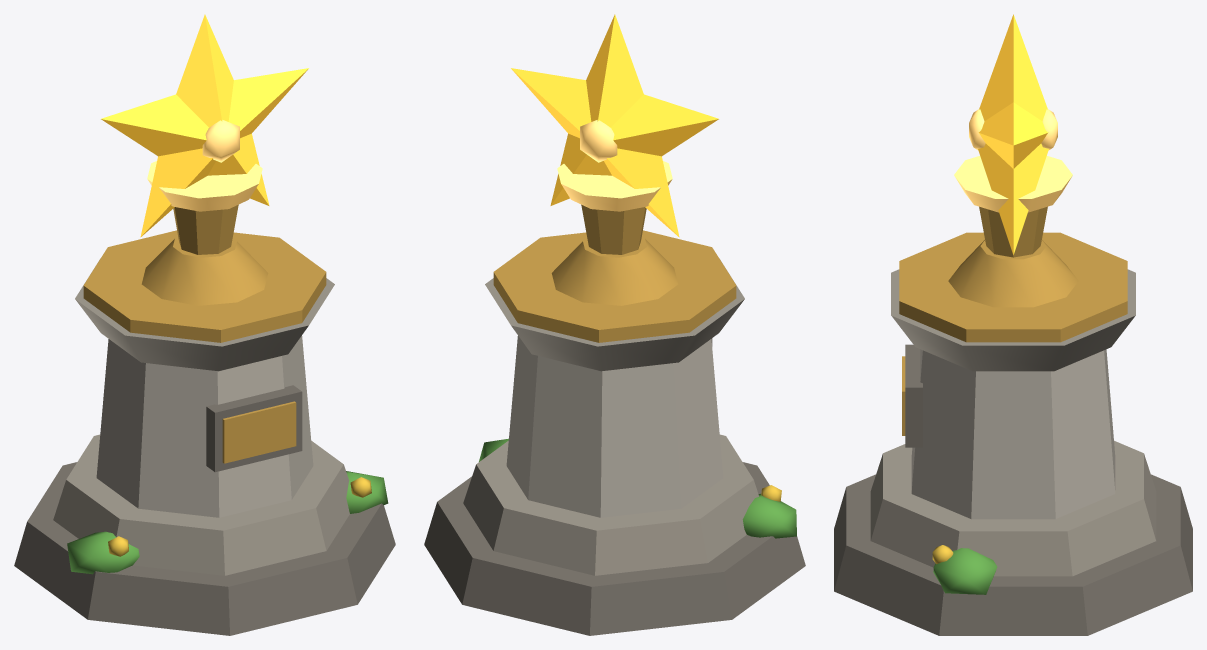
File: trophy-statue.glb
The picture shows the model from 3 angles, left to right: view 1: azimuth 30°, elevation 25°; view 2: azimuth 150°, elevation 25°; view 3: azimuth 270°, elevation 25°; orthographic projection.
Parts seen in each view (by area): view 1: Part_StoneDark, Part_Brass, Part_StoneMid, PedestalShaft, GoldenStar, Part_WindowGlow, Part_BushTop, Part_FlowerYellow; view 2: PedestalShaft, Part_StoneMid, Part_StoneDark, Part_Brass, GoldenStar, Part_WindowGlow, Part_BushTop; view 3: PedestalShaft, Part_StoneDark, Part_StoneMid, Part_Brass, GoldenStar, Part_WindowGlow, Part_BushTop.
Boxes of the visible parts, left/top/right/bottom form: Part_StoneDark: left=14, top=385, right=395, bottom=635; Part_Brass: left=83, top=204, right=326, bottom=463; Part_StoneMid: left=53, top=258, right=349, bottom=575; PedestalShaft: left=96, top=336, right=313, bottom=517; GoldenStar: left=101, top=14, right=308, bottom=237; Part_WindowGlow: left=147, top=120, right=262, bottom=211; Part_BushTop: left=67, top=471, right=388, bottom=574; Part_FlowerYellow: left=108, top=477, right=371, bottom=556; PedestalShaft: left=506, top=336, right=723, bottom=517; Part_StoneMid: left=463, top=258, right=758, bottom=575; Part_StoneDark: left=424, top=338, right=805, bottom=635; Part_Brass: left=493, top=204, right=736, bottom=342; GoldenStar: left=511, top=14, right=718, bottom=237; Part_WindowGlow: left=557, top=120, right=672, bottom=211; Part_BushTop: left=479, top=438, right=796, bottom=538; PedestalShaft: left=911, top=349, right=1115, bottom=519; Part_StoneDark: left=834, top=344, right=1192, bottom=635; Part_StoneMid: left=870, top=269, right=1156, bottom=576; Part_Brass: left=899, top=206, right=1127, bottom=435; GoldenStar: left=978, top=14, right=1048, bottom=255; Part_WindowGlow: left=954, top=109, right=1072, bottom=212; Part_BushTop: left=933, top=548, right=997, bottom=594.
Size of the model in its own units: 1.65 by 2.73 by 1.63.
